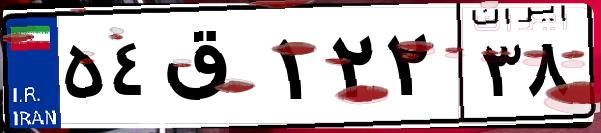1: (270, 28, 330, 110)
2: (385, 28, 445, 110), (330, 28, 385, 110)
3: (475, 38, 525, 113)
4: (110, 28, 158, 98)
5: (57, 26, 110, 100)
8: (525, 38, 570, 115)
ق: (158, 20, 270, 120)
